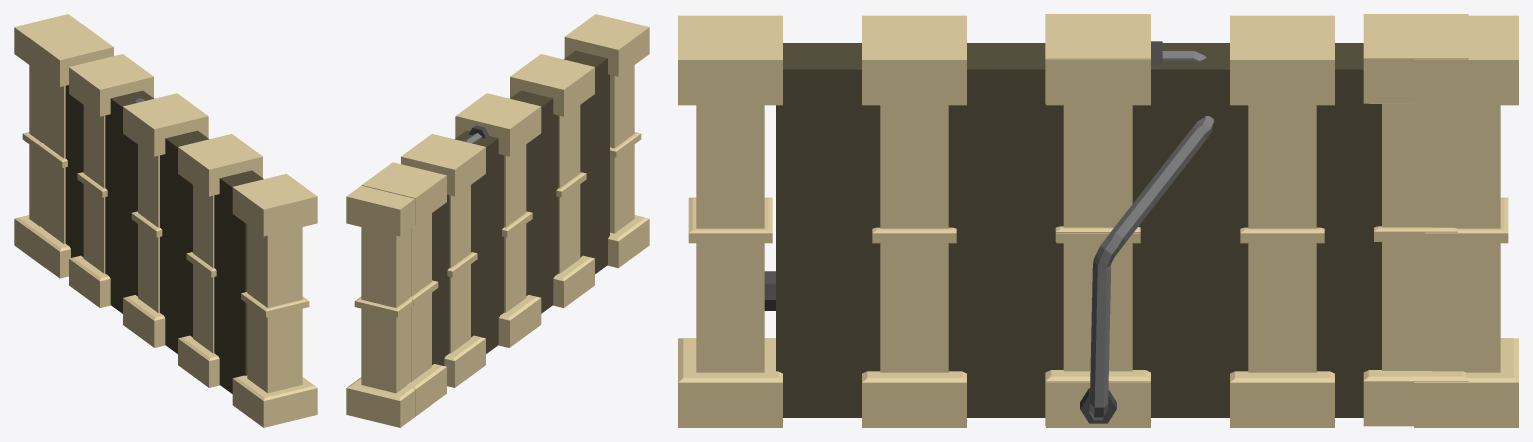
Rendered from WalkandColumn.fbx.
3 views of the same model, side by side, from view 1: azimuth 30°, elevation 25°; view 2: azimuth 150°, elevation 25°; view 3: azimuth 270°, elevation 25° (orthographic). The views are drawn at different scales.
Parts seen in each view (by area): view 1: Cube, Column.009, Column.006, Column.008, Column.000, Column/Pipes, Column.005, Column.002; view 2: Cube, Column.005, Column.009, Column.008, Column.006, Column.000, Column/Pipes, Column.002; view 3: Cube, Column.009, Column.008, Column.006, Column.005, Column.000, Column.007, Column/Pipes, Column.002.
Part boxes in pixels (x1,y1,x2,y2): Cube: (65, 85, 263, 393); Column.009: (232, 173, 317, 427); Column.006: (69, 54, 153, 307); Column.008: (178, 134, 262, 387); Column.000: (28, 24, 113, 278); Column/Pipes: (123, 98, 208, 347); Column.005: (14, 14, 81, 267); Column.002: (123, 93, 207, 317); Cube: (432, 50, 609, 365); Column.005: (346, 185, 430, 427); Column.009: (564, 14, 649, 268); Column.008: (510, 54, 594, 307); Column.006: (401, 134, 485, 387); Column.000: (361, 162, 446, 416); Column/Pipes: (464, 94, 541, 346); Column.002: (455, 93, 540, 347); Cube: (776, 43, 1381, 417); Column.009: (678, 15, 782, 427); Column.008: (862, 15, 966, 427); Column.006: (1230, 15, 1334, 427); Column.005: (1414, 15, 1518, 427); Column.000: (1363, 14, 1468, 426); Column.007: (1046, 59, 1150, 427); Column/Pipes: (1045, 14, 1214, 426); Column.002: (1046, 14, 1150, 382).
Size of the model in its own units: 320 by 775 by 1600.
